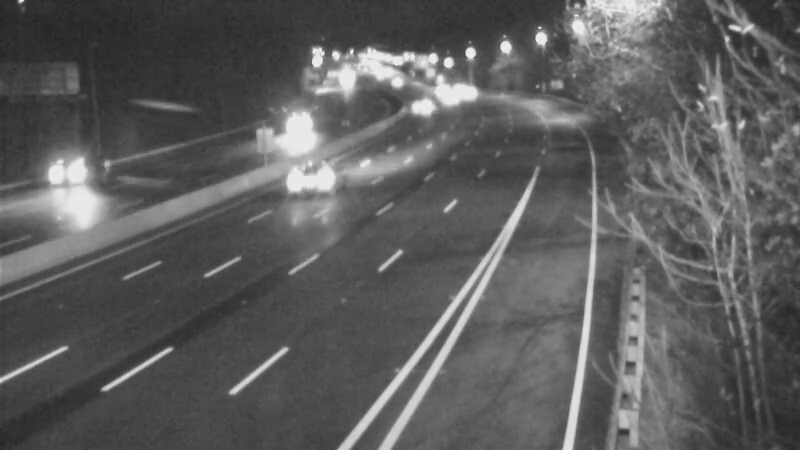vehicle: (272, 141, 352, 221), (31, 134, 111, 214), (420, 73, 470, 123), (394, 81, 444, 131), (269, 108, 319, 158)
